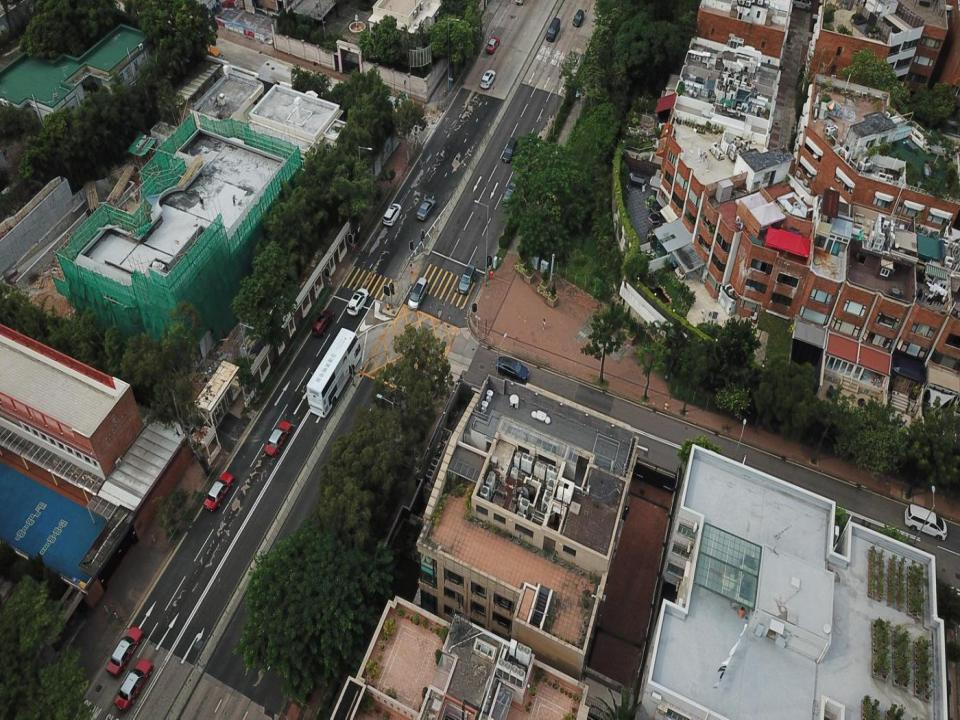bus: (306, 328, 361, 419)
car: (115, 658, 152, 712), (105, 627, 143, 676), (204, 471, 233, 511), (497, 356, 529, 383), (265, 422, 291, 455), (311, 309, 334, 335), (458, 264, 476, 294), (502, 182, 520, 206), (416, 199, 436, 219), (503, 137, 517, 164), (573, 9, 584, 28), (486, 38, 499, 53)
truck: (546, 17, 559, 41)
van: (904, 504, 947, 540), (407, 277, 429, 310), (348, 288, 369, 314), (383, 202, 402, 226), (480, 70, 496, 90)
